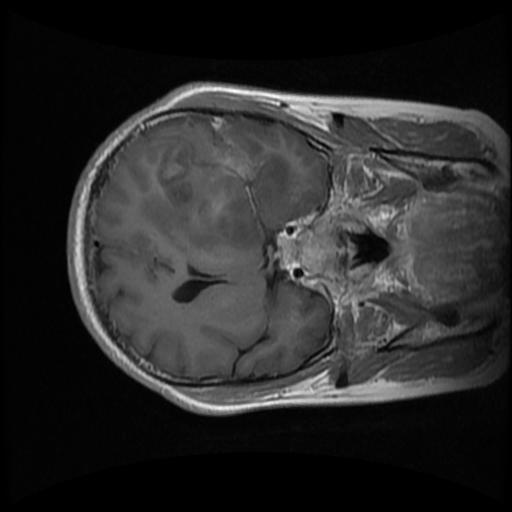glioma: (138, 119, 293, 253)
